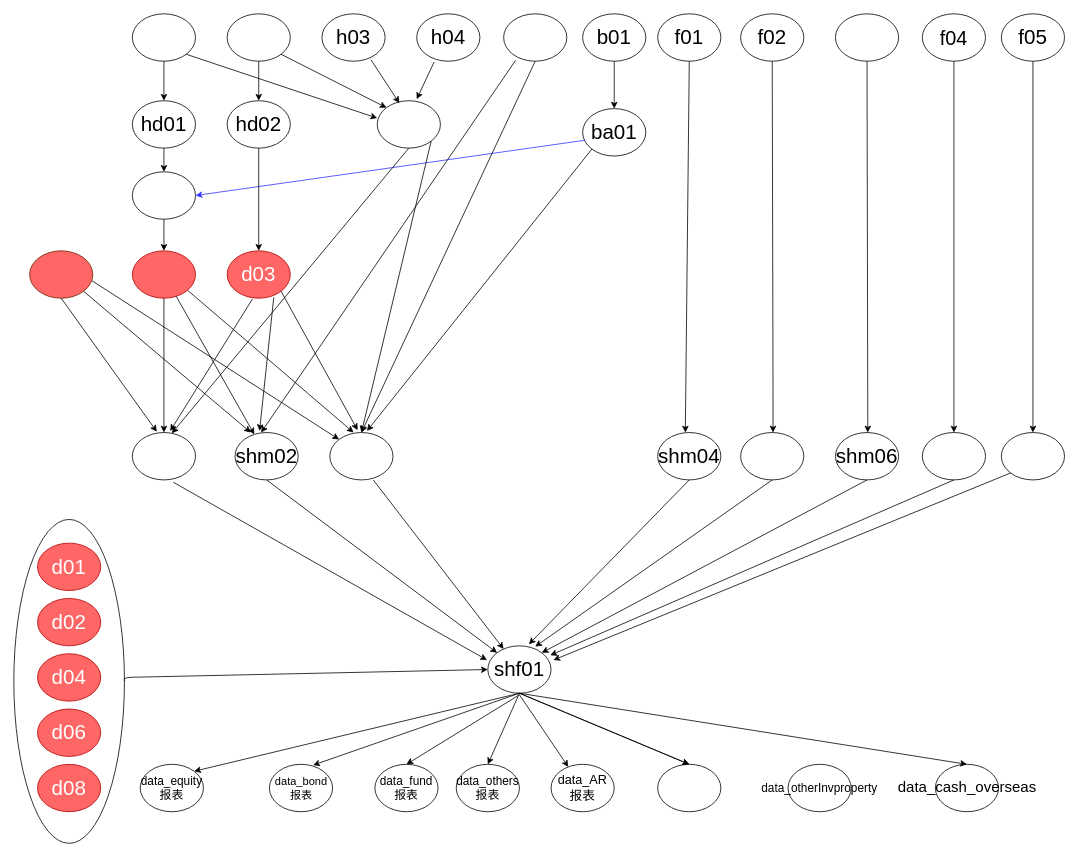
Image size: 1078x857. Some labels were removed from this diagram. Each missing label, with the centre of its shape:
"bd01" goes at pixel 164 195.
"d05" goes at pixel 164 274.
"d07" goes at pixel 61 274.
"data_FixedAsset" goes at pixel 689 788.
"f03" goes at pixel 867 37.
"h01" goes at pixel 164 37.
"h02" goes at pixel 258 37.
"h05" goes at pixel 535 37.
"sh01" goes at pixel 408 124.
"shm01" goes at pixel 164 456.
"shm03" goes at pixel 361 456.
"shm05" goes at pixel 772 456.
"shm07" goes at pixel 954 456.
"shm08" goes at pixel 1033 456.
